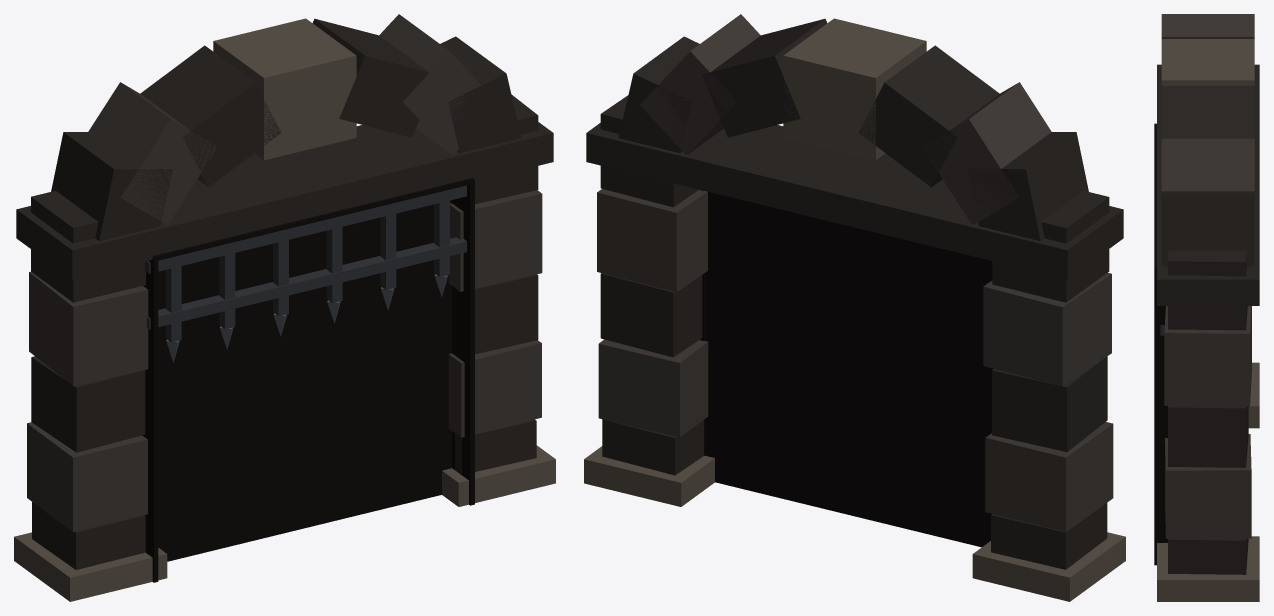
File: dk_pitgate.glb
The picture shows the model from 3 angles, left to right: view 1: azimuth 30°, elevation 25°; view 2: azimuth 150°, elevation 25°; view 3: azimuth 270°, elevation 25°; orthographic projection. The views are drawn at different scales.
Visible parts, largest first — view 1: dk_pitgate; view 2: dk_pitgate; view 3: dk_pitgate.
Part boxes in pixels (x1,y1,x2,y2): dk_pitgate: (14, 14, 555, 601); dk_pitgate: (584, 14, 1125, 601); dk_pitgate: (1154, 14, 1259, 601).
Bounding box in the file's own units: 10.5 × 9.79 × 2.15.
Materials: 1 (1 with a texture image).
